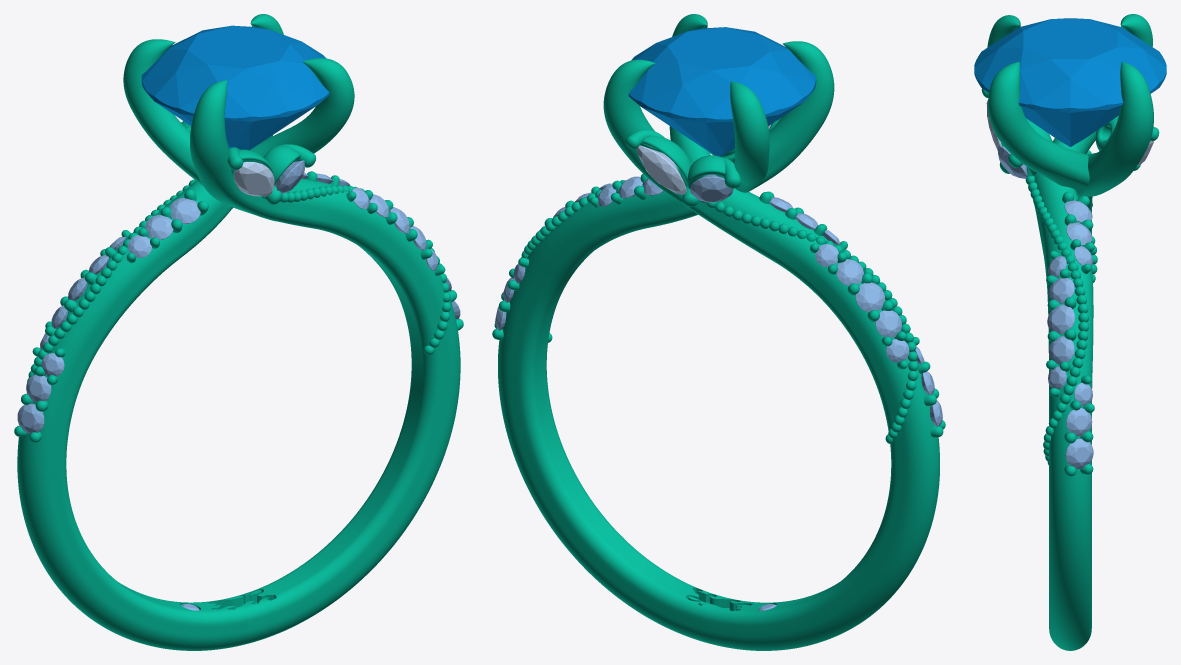
The model's file is ring9.glb.
The picture shows the model from 3 angles, left to right: view 1: azimuth 30°, elevation 25°; view 2: azimuth 150°, elevation 25°; view 3: azimuth 270°, elevation 25°; orthographic projection.
Visible parts, largest first — view 1: gold.3dm, Diamond_Round (×2), Diamond_Marquise; view 2: gold.3dm, Diamond_Round (×3), Diamond_Marquise; view 3: gold.3dm, Diamond_Round (×11).
Part boxes in pixels (box(x1,y1,x2,y2)): gold.3dm: box(14, 14, 463, 650); Diamond_Round (×2): box(17, 25, 329, 433); Diamond_Marquise: box(234, 162, 274, 196); gold.3dm: box(492, 14, 945, 650); Diamond_Round (×3): box(628, 27, 884, 312); Diamond_Marquise: box(637, 145, 686, 194); gold.3dm: box(981, 14, 1159, 650); Diamond_Round (×11): box(974, 18, 1166, 468).
Bounding box in the file's own units: 2.41 × 3.06 × 0.908.
